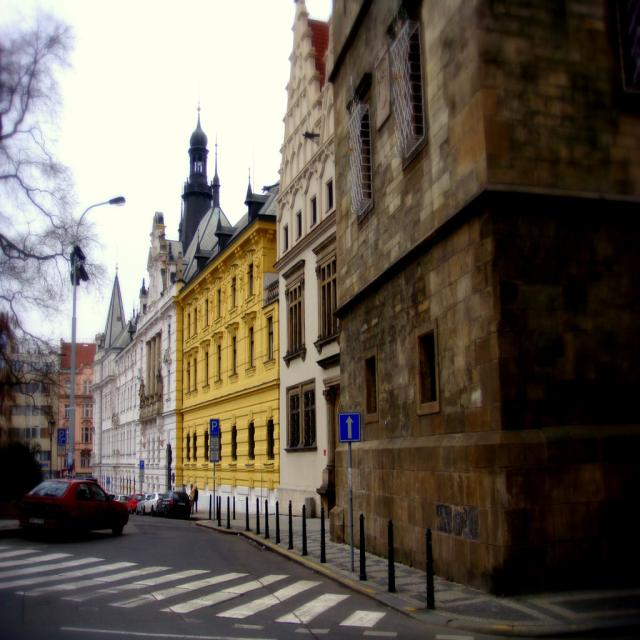car: (14, 471, 129, 539)
